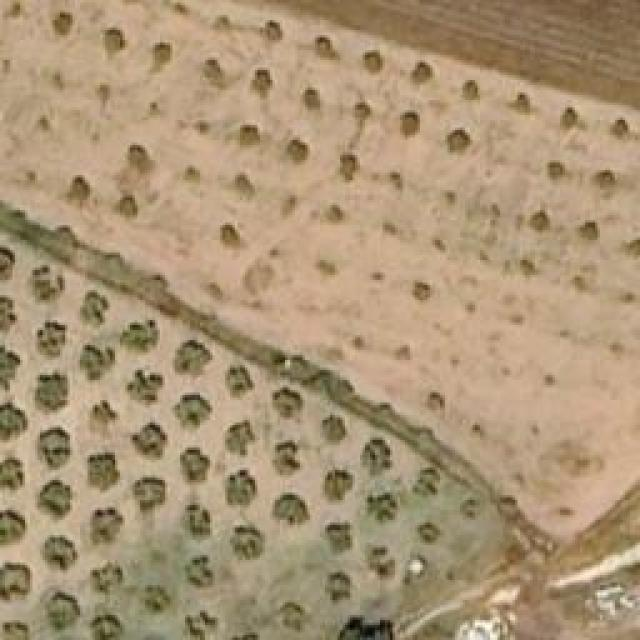Tree: (35, 480, 78, 523), (35, 428, 73, 471), (170, 392, 213, 430), (173, 340, 213, 378), (27, 265, 65, 303), (35, 322, 73, 360), (125, 370, 163, 408), (33, 375, 68, 415), (80, 343, 115, 383), (88, 452, 123, 490), (40, 535, 78, 570), (133, 422, 168, 460), (45, 592, 80, 630), (90, 507, 123, 545), (225, 470, 258, 508), (275, 493, 310, 528), (123, 320, 158, 355), (0, 400, 28, 443), (225, 418, 255, 458), (0, 560, 30, 600), (133, 478, 166, 513), (80, 290, 110, 328), (363, 437, 393, 475), (58, 175, 91, 208), (47, 0, 75, 38), (180, 448, 210, 483), (230, 528, 265, 558), (180, 505, 210, 540), (0, 345, 22, 392), (93, 563, 123, 596), (0, 457, 25, 495), (438, 127, 471, 155), (325, 523, 353, 556), (225, 368, 255, 398), (273, 388, 303, 418), (368, 493, 398, 523), (335, 150, 365, 180), (0, 510, 25, 545), (280, 137, 310, 165), (325, 470, 353, 500), (185, 610, 213, 640), (185, 558, 213, 588), (312, 35, 340, 65), (100, 25, 125, 58), (275, 443, 300, 476), (325, 573, 350, 606), (367, 547, 395, 575), (215, 217, 243, 245), (150, 43, 173, 76), (113, 190, 138, 220), (92, 615, 120, 640), (572, 220, 600, 245), (592, 168, 620, 193), (0, 615, 28, 640), (130, 145, 153, 173), (250, 70, 273, 98), (300, 87, 323, 115), (507, 93, 535, 116), (323, 415, 346, 443), (203, 57, 226, 85), (325, 202, 348, 230), (93, 400, 118, 425), (543, 158, 568, 183), (605, 120, 630, 145), (418, 523, 443, 546), (145, 588, 168, 613), (555, 105, 578, 130), (528, 210, 551, 235), (260, 18, 283, 43), (410, 60, 433, 83), (0, 298, 15, 333), (230, 173, 250, 198), (0, 245, 15, 278), (363, 50, 383, 73), (463, 80, 486, 100), (617, 237, 640, 257), (402, 113, 420, 136), (240, 125, 260, 145), (355, 103, 370, 128), (182, 165, 200, 183), (415, 282, 430, 300)
